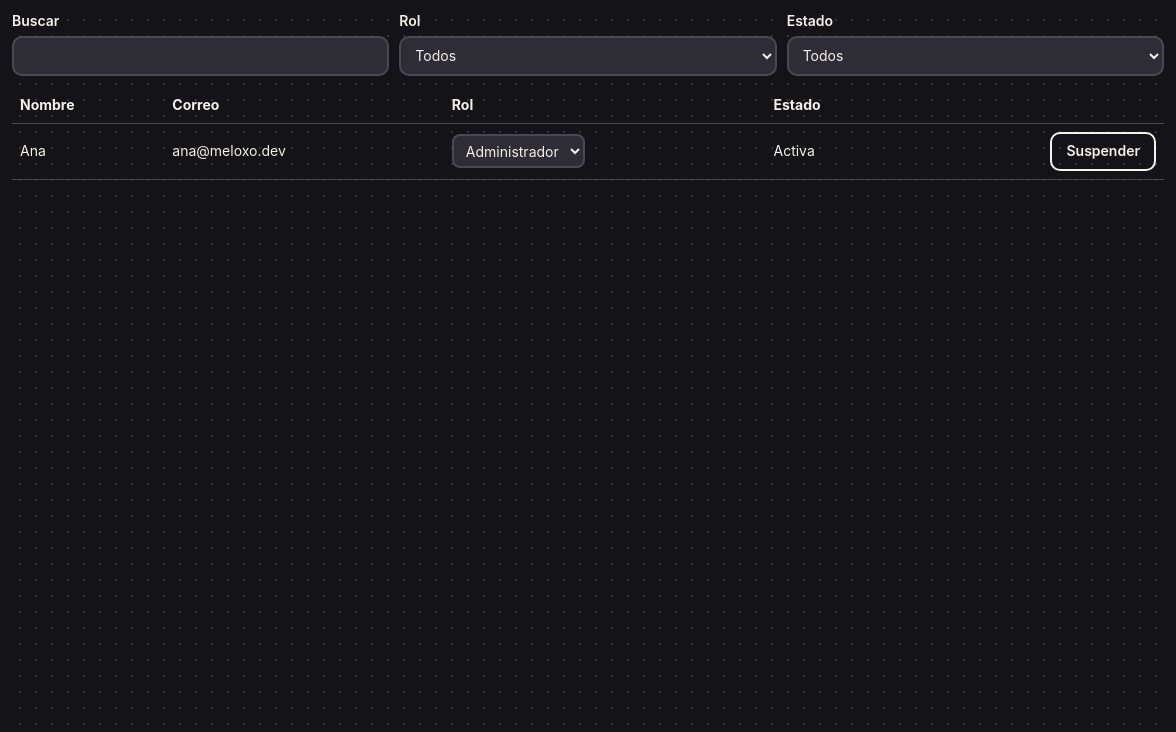
Test: 409 de último administrador explica por qué y no cambia la fila
The image size is (1176, 732).
Select "Oyente" in the dropdown named "Rol de Ana" at (518, 152), box [452,134,585,168]
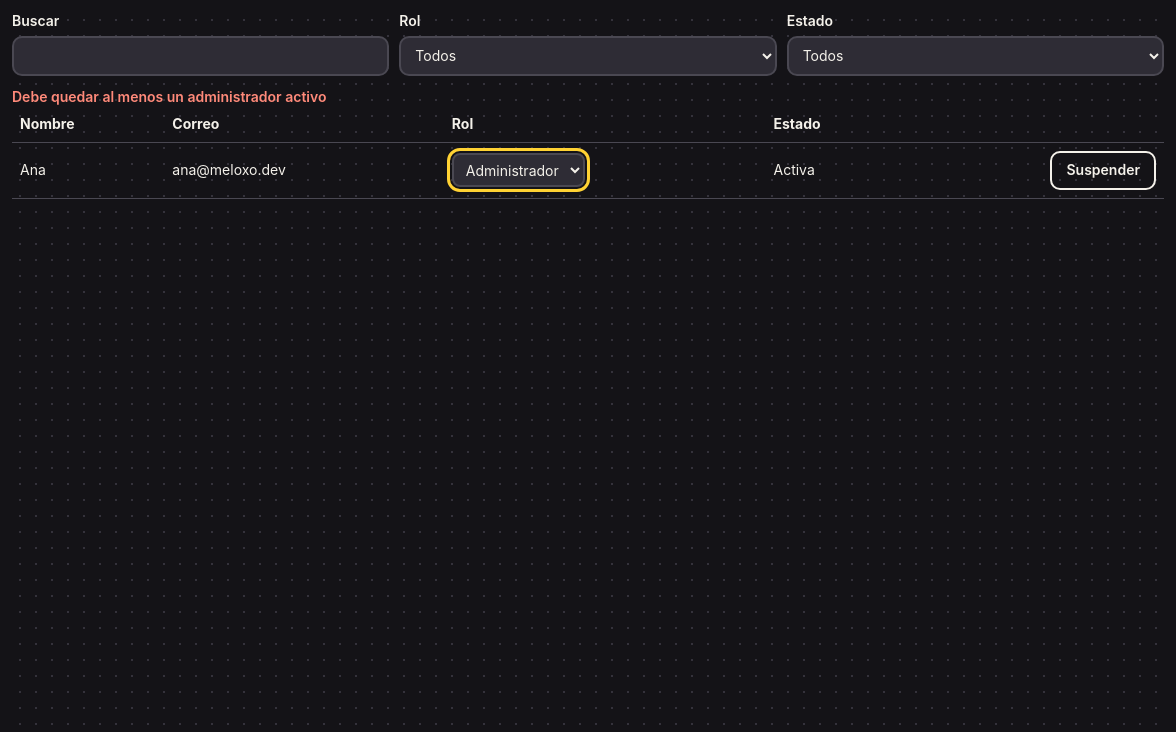
Now the message reads "Debe quedar al menos un administrador activo", box [12,88,326,105]
